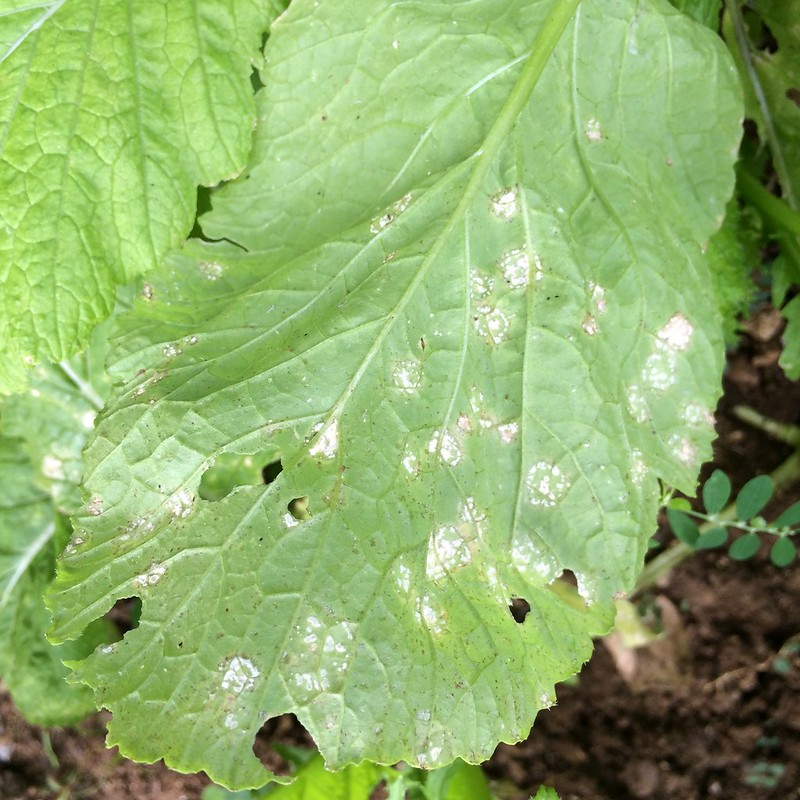Mustard_WhiteRust: (122, 57, 699, 729)
